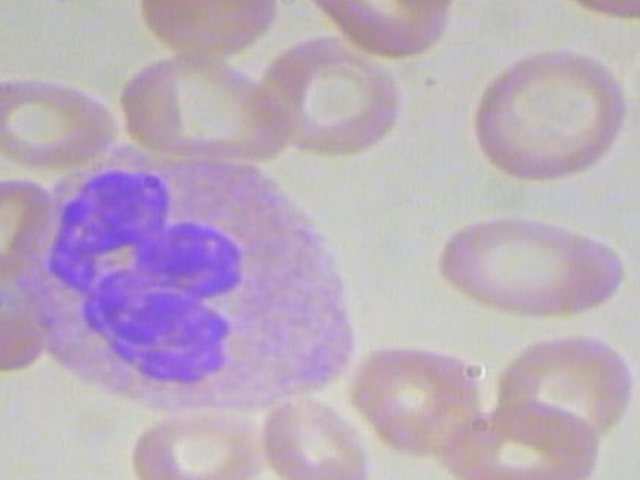RBC: (459, 42, 640, 181), (432, 213, 629, 318), (255, 30, 412, 156), (344, 344, 496, 467), (431, 390, 618, 480), (486, 332, 640, 441), (0, 63, 125, 168), (120, 403, 277, 480), (116, 0, 297, 64), (263, 395, 378, 480)
WBC: (12, 139, 382, 422)
